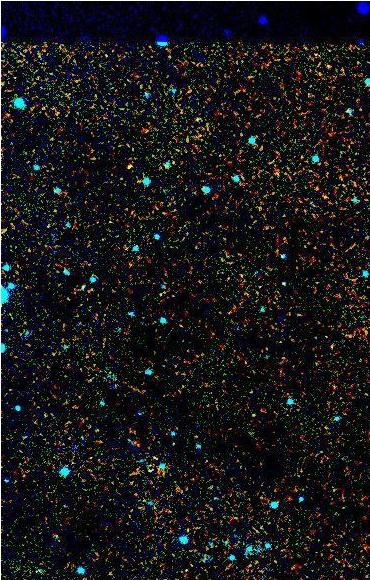star: (116, 152, 146, 182)
